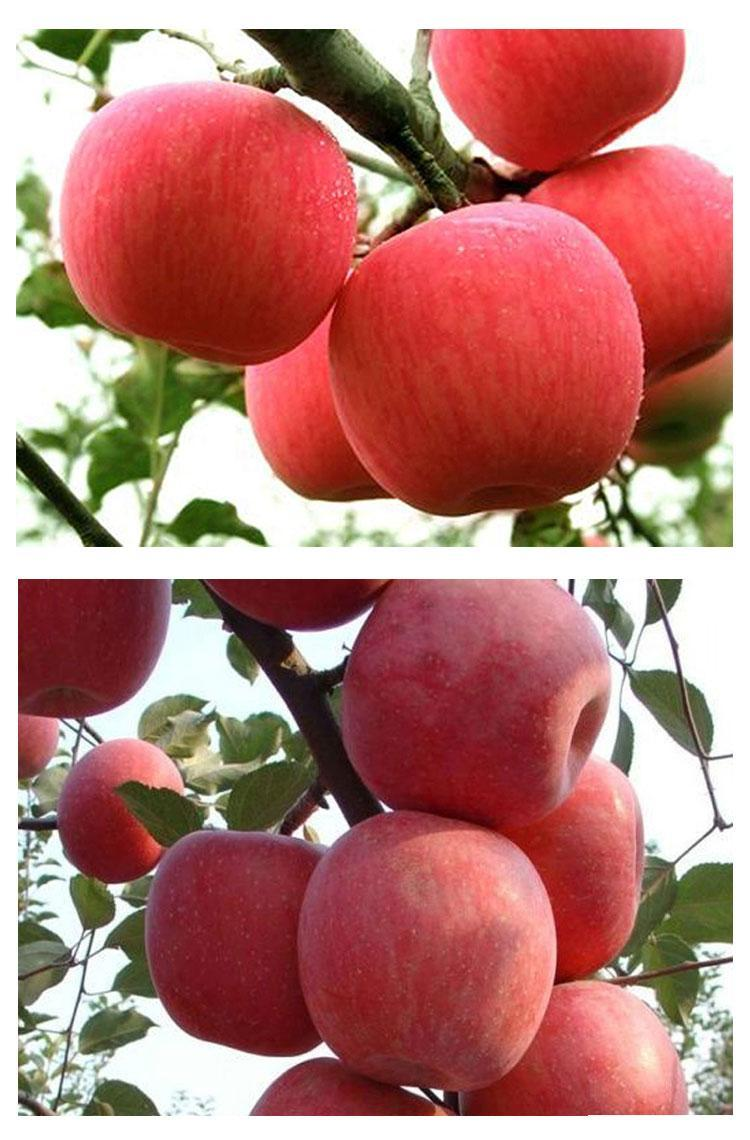apple: (332, 197, 645, 520), (58, 81, 356, 366), (296, 809, 560, 1095), (341, 581, 606, 830), (515, 143, 736, 377), (143, 825, 326, 1058), (427, 31, 690, 172), (493, 754, 638, 978), (455, 984, 687, 1118), (246, 304, 392, 501), (17, 577, 169, 717), (53, 735, 191, 885), (17, 714, 60, 783)
